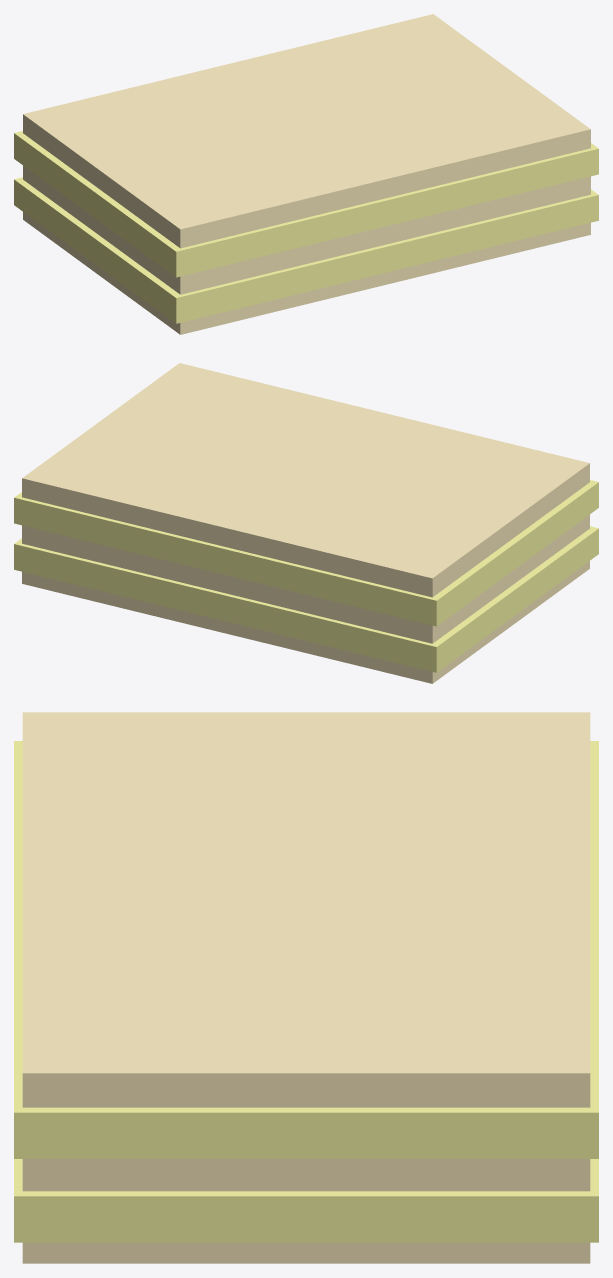
Rendered from boloretangulo baunilha.glb.
3 views of the same model, one above another, from view 1: azimuth 30°, elevation 25°; view 2: azimuth 150°, elevation 25°; view 3: azimuth 270°, elevation 25° (orthographic). The views are drawn at different scales.
Visible parts, largest first — view 1: Cube.003, Cube.002, Cube.001; view 2: Cube.003, Cube.002, Cube.001; view 3: Cube.003, Cube.001, Cube.002.
Boxes of the visible parts, box(x1,y1,x2,y2) form: Cube.003: box(23, 14, 590, 334); Cube.002: box(14, 177, 598, 323); Cube.001: box(14, 131, 598, 277); Cube.003: box(22, 363, 589, 683); Cube.002: box(14, 526, 598, 672); Cube.001: box(14, 480, 598, 626); Cube.003: box(22, 712, 590, 1263); Cube.001: box(14, 741, 598, 1158); Cube.002: box(14, 1159, 598, 1242).
Size of the model in its own units: 3.1 by 0.7391 by 2.06.
